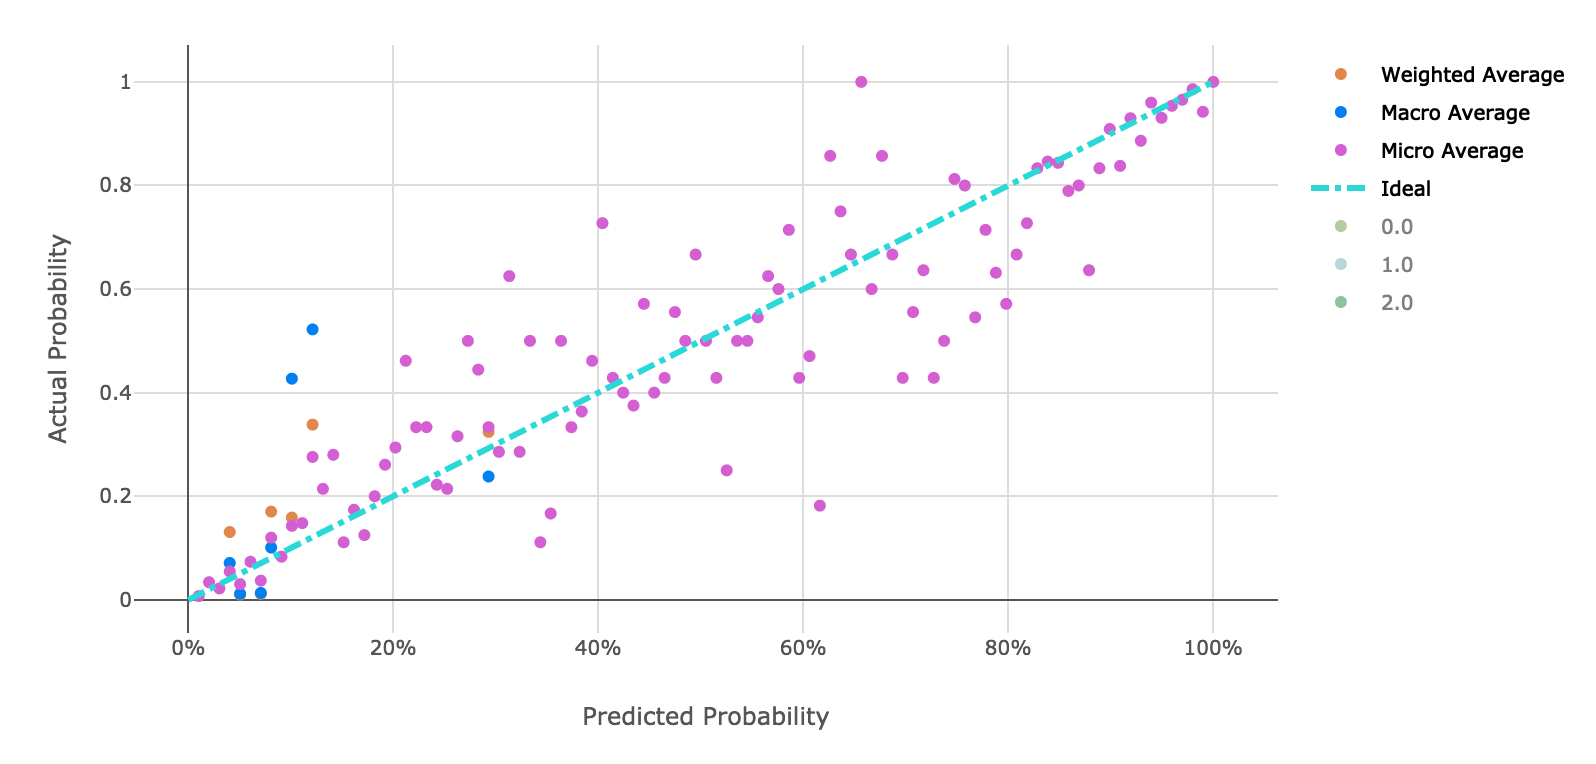

Layout of this report page (visuals, bound fields, positions):
{"tool":"tableau","page":{"name":"Dashboard 1","canvas":[800,800],"ordinal":0},"visuals":[{"type":"worksheet","title":"Sheet 1","mark":"Automatic","rows":["PF3D7 Gene"],"box":[8,8,784,784]},{"type":"legend","title":"Sheet 1","param":"[federated.07nw94u1uszonk1c6stdh1ydp2d8].[:Measure Names]","box":[589,106,193,75]}]}

Visuals, with their boxes on the page's 800x800 design canvas (x1, y1, x2, y2). These are canvas units, not pixel positions in the 1596x764 screenshot, which may show the page scaled, cropped or inside an application window:
"Sheet 1" worksheet: 8:8:792:792
"Sheet 1" legend: 589:106:782:181
